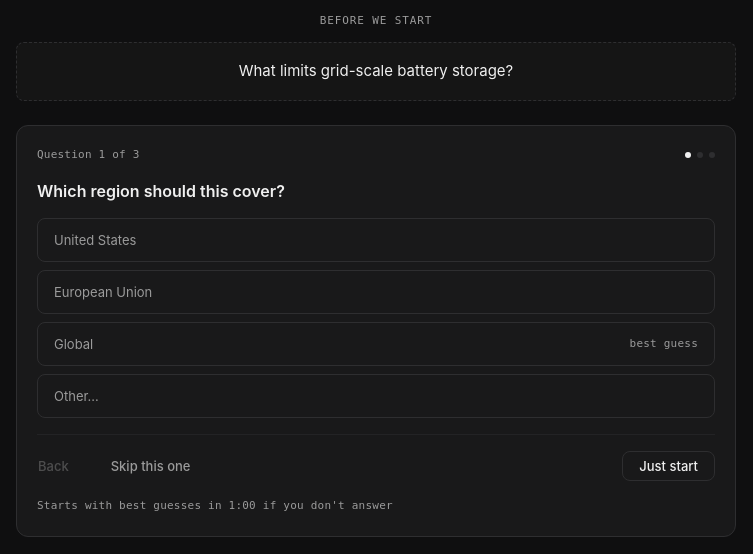
Test: ClarifyStage — the card › Just start posts what was answered so far with skip, once
Step 1. Click the button "Global best guess" → (74, 344), box 37,322 -> 715,366
Wait 240 ms
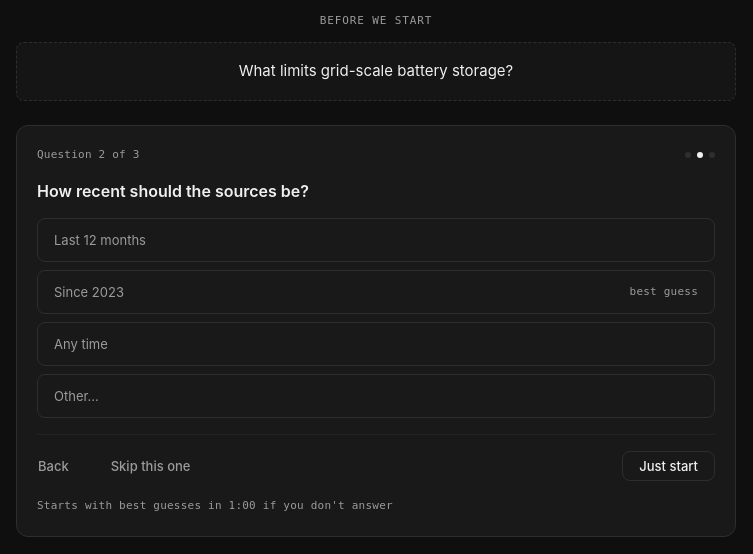
Step 2. Click the button "Just start" → (669, 466), box 622,451 -> 715,481
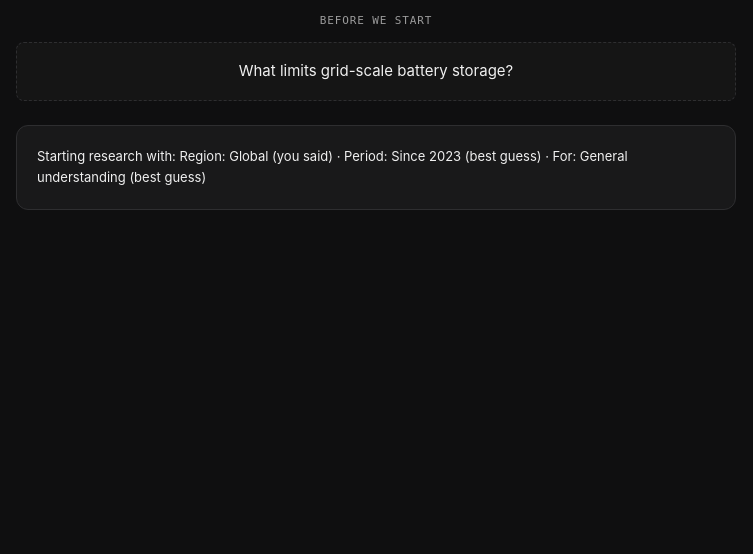
Now the text with id "clarifySummary" shows "Starting research with: Region: Global (you said) · Period: Since 2023 (best guess) · For: General understanding (best guess)", box 37,148 -> 628,185
